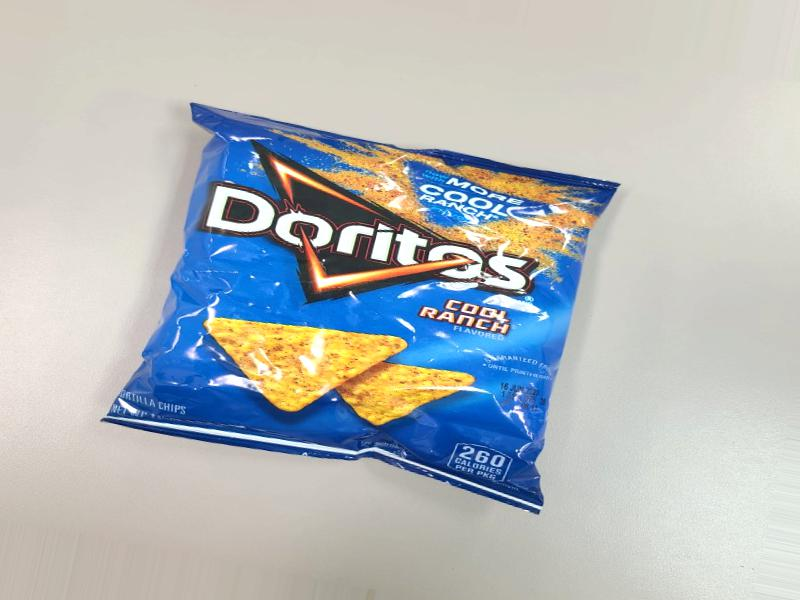doritos: (145, 91, 606, 487)
